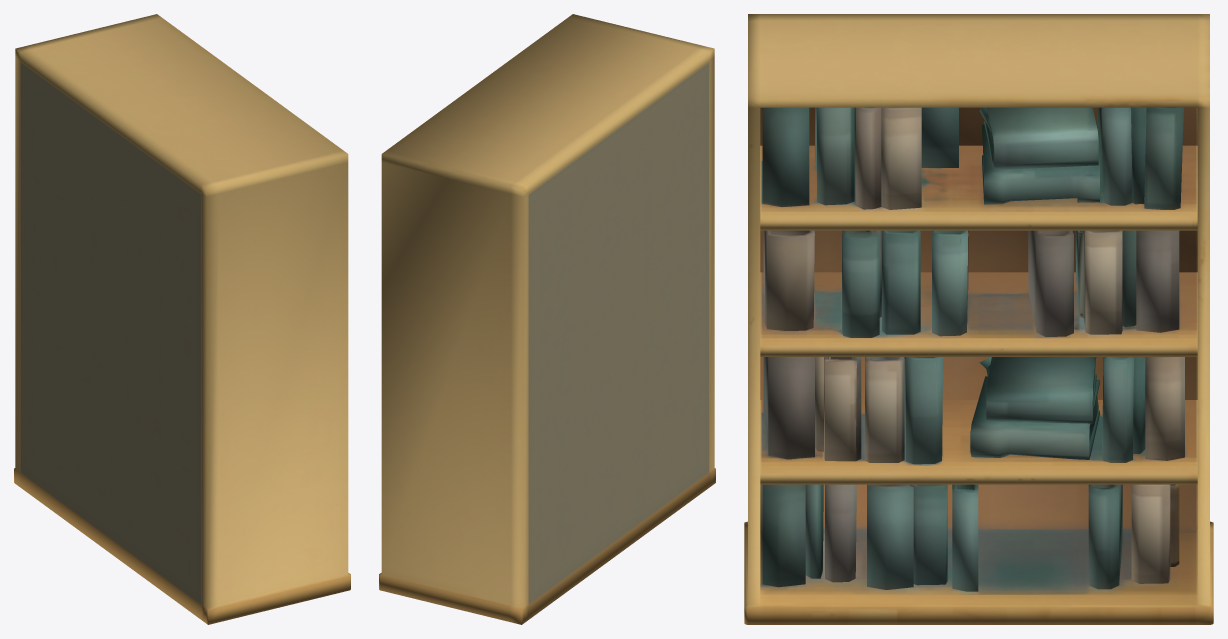
File: bookshelf.glb
3 renders of one model, left to right at view 1: azimuth 30°, elevation 25°; view 2: azimuth 150°, elevation 25°; view 3: azimuth 270°, elevation 25°, orthographic. The views are drawn at different scales.
Visible parts, largest first — view 1: tripo_node_kodyurd-model-2_____________________; view 2: tripo_node_kodyurd-model-2_____________________; view 3: tripo_node_kodyurd-model-2_____________________.
Part boxes in pixels (x1=…): tripo_node_kodyurd-model-2_____________________: x1=14, y1=14, x2=350, y2=624; tripo_node_kodyurd-model-2_____________________: x1=379, y1=14, x2=715, y2=624; tripo_node_kodyurd-model-2_____________________: x1=744, y1=14, x2=1213, y2=624.
Bounding box in the file's own units: 0.3457 × 0.998 × 0.8066.
1 material, 1 textured.
